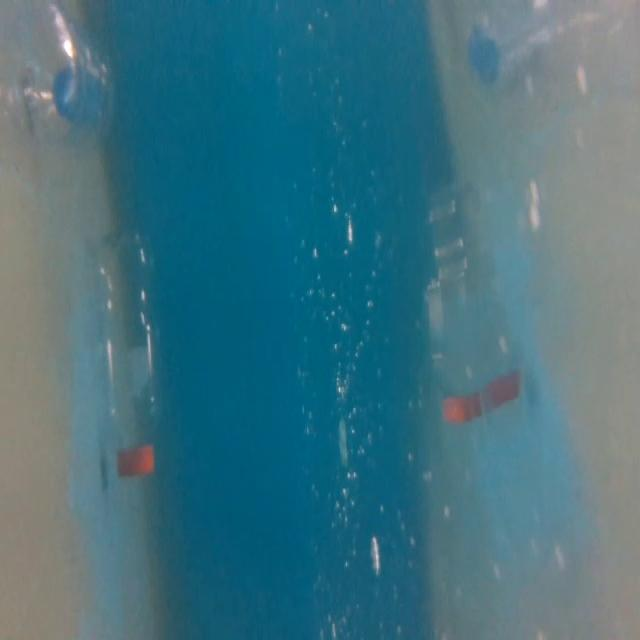plastic bottle: (80, 220, 174, 487)
